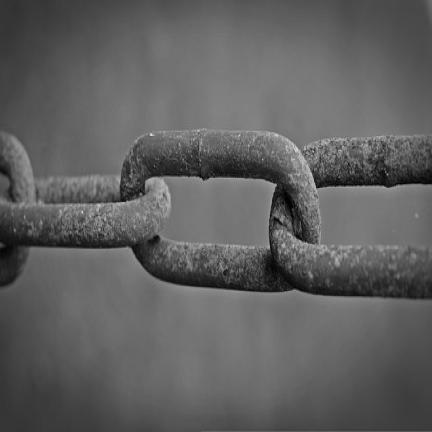besi_tidak_karat: (0, 130, 431, 299)
